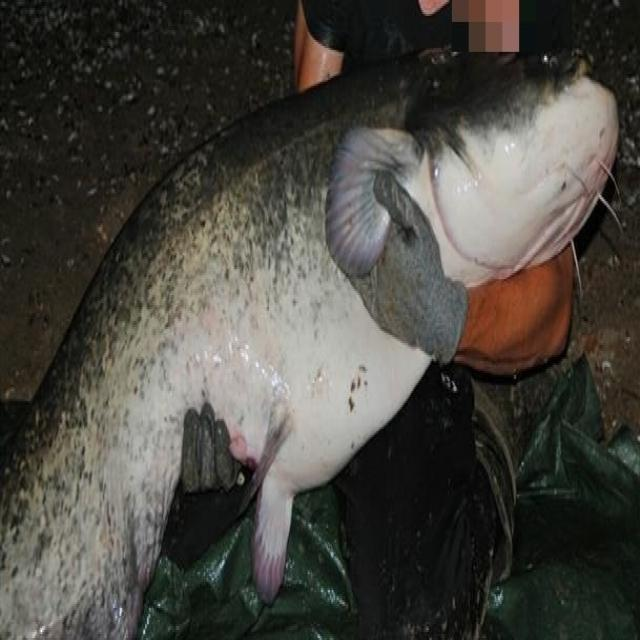Catfish: (4, 0, 630, 640)
